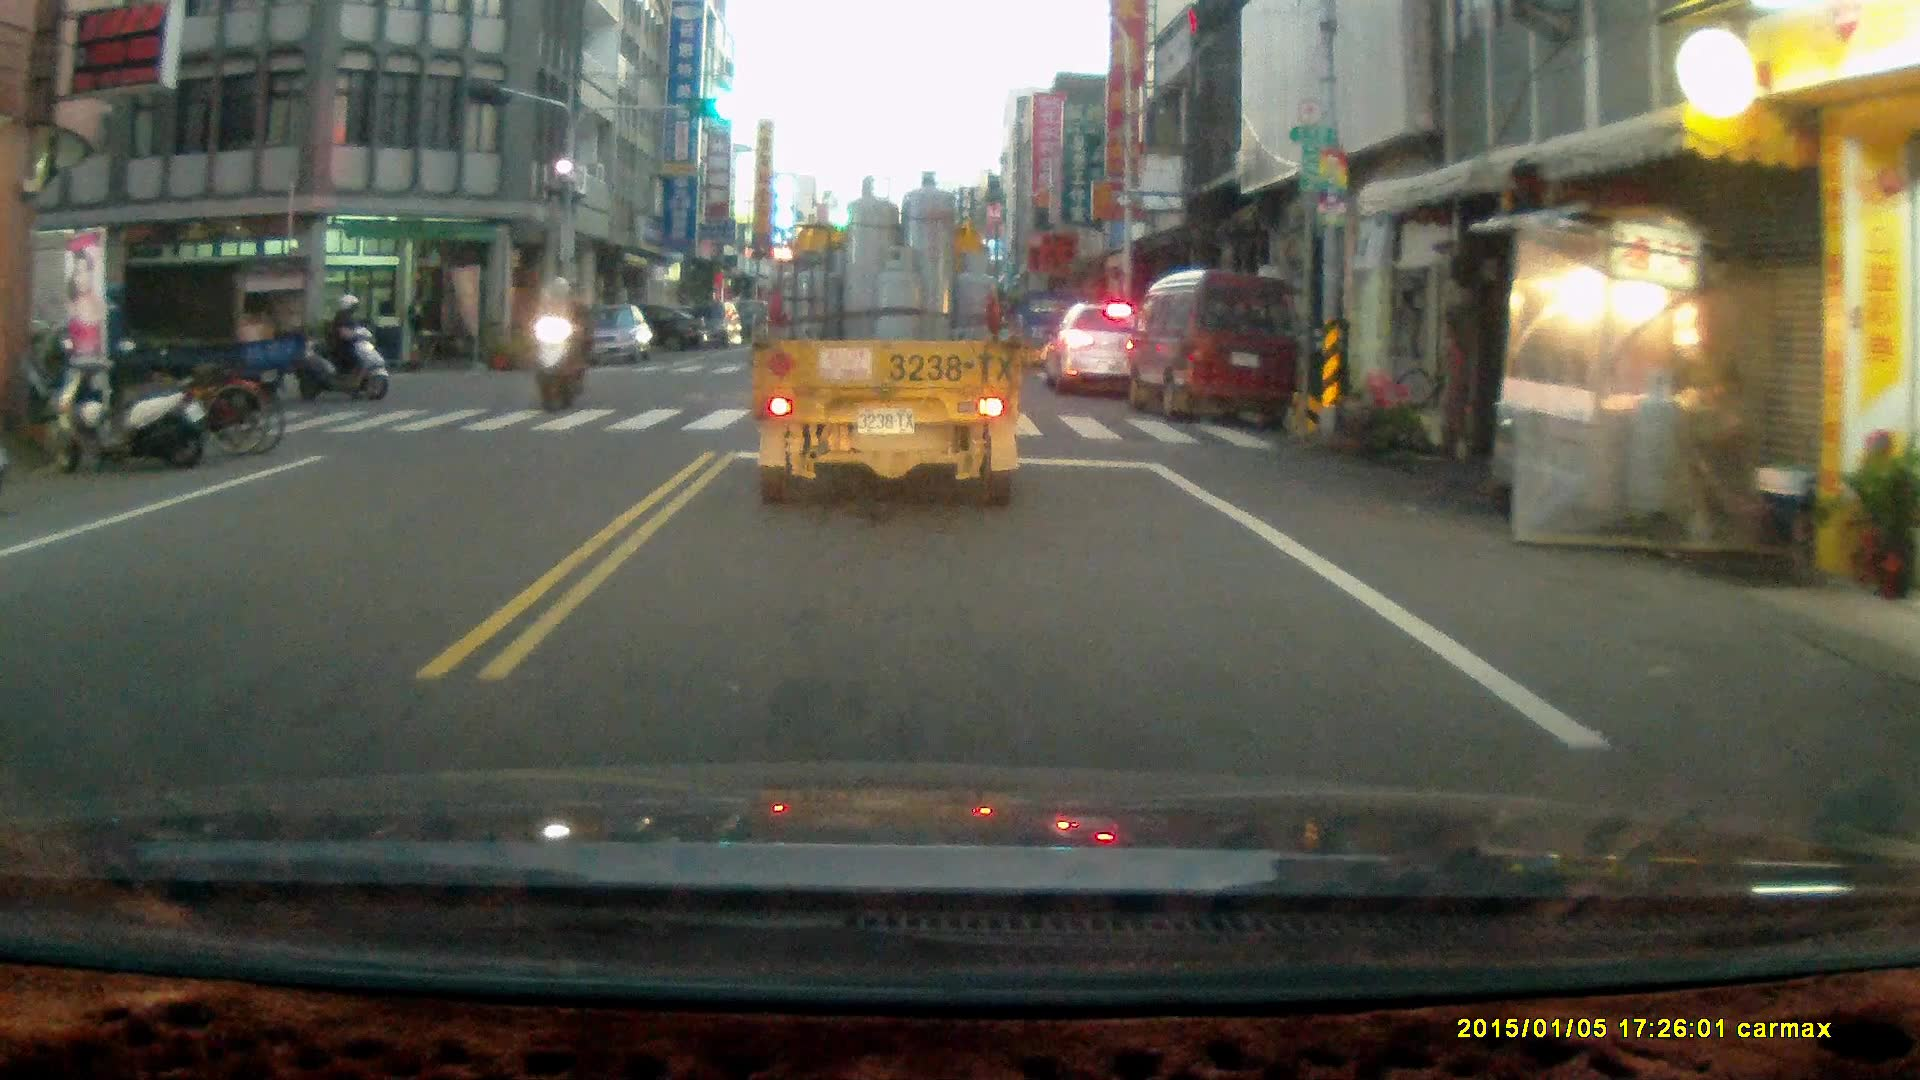pedestrian: (403, 288, 433, 368)
rider: (295, 282, 388, 393), (522, 269, 580, 408)
vehicle: (750, 168, 1027, 510), (51, 247, 320, 412), (1127, 275, 1304, 426), (1044, 299, 1157, 400), (590, 300, 707, 357), (571, 302, 656, 368), (664, 300, 741, 347)
